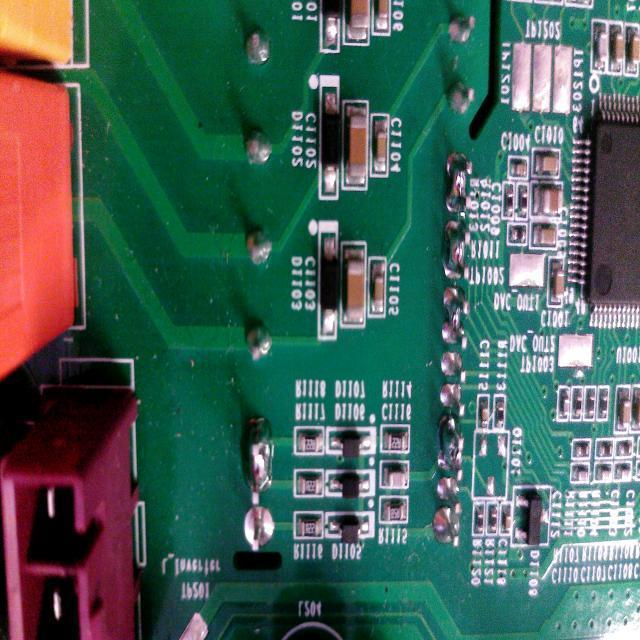Soldering bridge: (238, 414, 276, 506), (431, 413, 469, 483), (436, 282, 474, 350), (444, 148, 475, 215), (442, 218, 474, 282)
